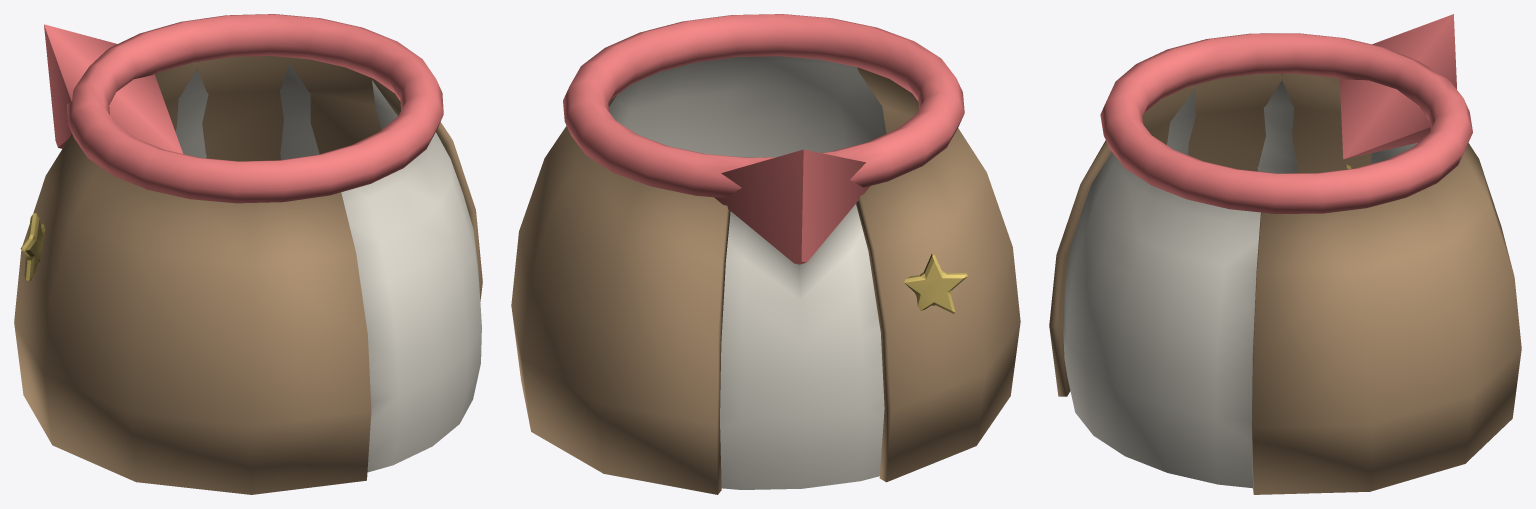
File: cowboy_chest.fbx
3 views of the same model, side by side, from view 1: azimuth 30°, elevation 25°; view 2: azimuth 150°, elevation 25°; view 3: azimuth 270°, elevation 25° (orthographic). The views are drawn at different scales.
Parts seen in each view (by area): view 1: cowboy_chest; view 2: cowboy_chest; view 3: cowboy_chest.
Part boxes in pixels (x1,y1,x2,y2): cowboy_chest: (14,14,482,494); cowboy_chest: (511,14,1020,494); cowboy_chest: (1049,14,1521,494).
Size of the model in its own units: 1.54 by 1.16 by 1.52.
